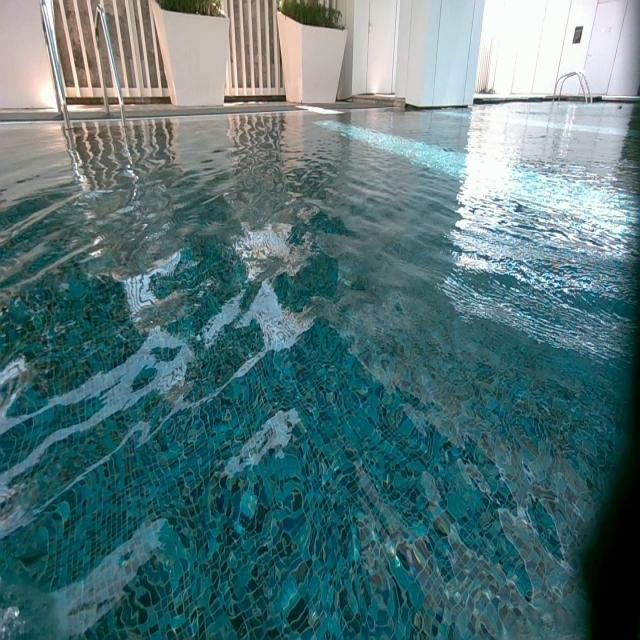Cans: (617, 104, 624, 110)
